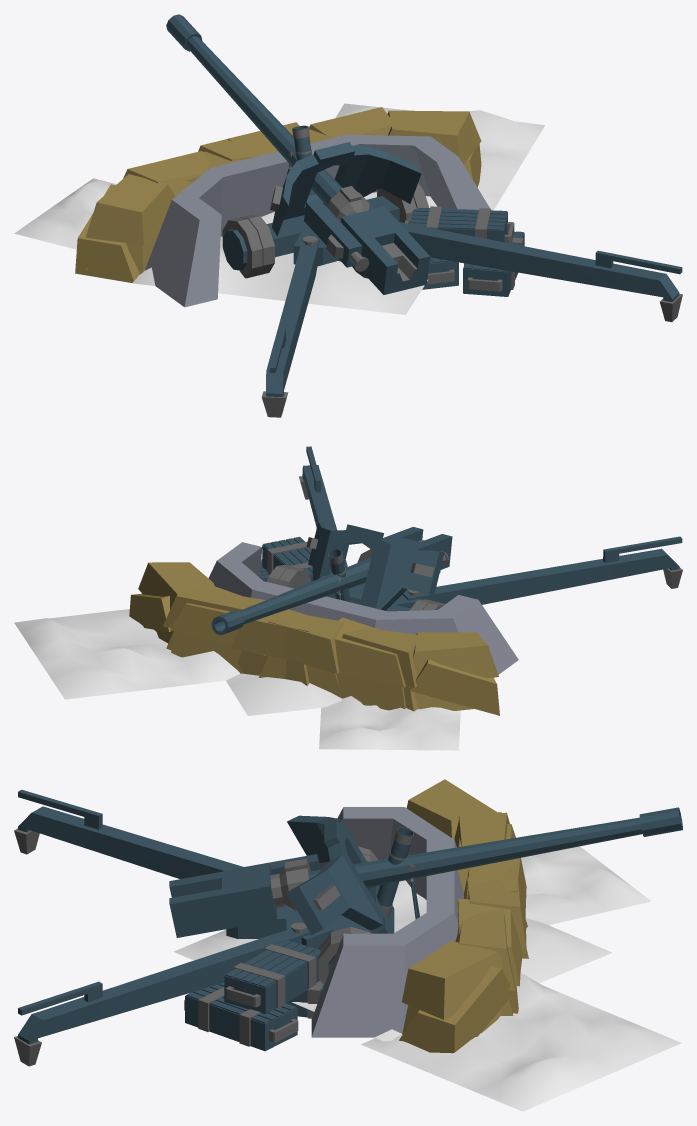
File: mortars_tiers_snow.fbx
3 views of the same model, one above another, from view 1: azimuth 30°, elevation 25°; view 2: azimuth 150°, elevation 25°; view 3: azimuth 270°, elevation 25° (orthographic). The views are drawn at different scales.
Parts seen in each view (by area): view 1: mortar_t3, mortar_dot_t2, snow, mortar_dot_t3, mortar_dot_t1, mortar_t2, mortar_t1; view 2: snow, mortar_t3, mortar_dot_t3, mortar_dot_t1, mortar_dot_t2, mortar_t2, mortar_t1; view 3: mortar_t3, snow, mortar_dot_t2, mortar_dot_t3, mortar_t2, mortar_dot_t1, mortar_t1.
Part boxes in pixels (box(x1,y1,x2,y2)): mortar_t3: box(166, 14, 682, 417); mortar_dot_t2: box(145, 134, 489, 307); snow: box(14, 103, 544, 314); mortar_dot_t3: box(75, 107, 481, 282); mortar_dot_t1: box(78, 110, 481, 282); mortar_t2: box(405, 206, 524, 296); mortar_t1: box(286, 125, 315, 195); snow: box(14, 609, 460, 750); mortar_t3: box(211, 446, 682, 635); mortar_dot_t3: box(129, 582, 498, 710); mortar_dot_t1: box(138, 562, 499, 715); mortar_dot_t2: box(208, 542, 518, 677); mortar_t2: box(260, 536, 312, 581); mortar_t1: box(323, 549, 350, 602); mortar_t3: box(14, 789, 682, 1066); snow: box(173, 846, 681, 1111); mortar_dot_t2: box(311, 807, 463, 1037); mortar_dot_t3: box(399, 779, 527, 1053); mortar_t2: box(184, 940, 324, 1051); mortar_dot_t1: box(402, 812, 528, 1052); mortar_t1: box(370, 827, 419, 933).
Size of the model in its own units: 768 by 206 by 796.
